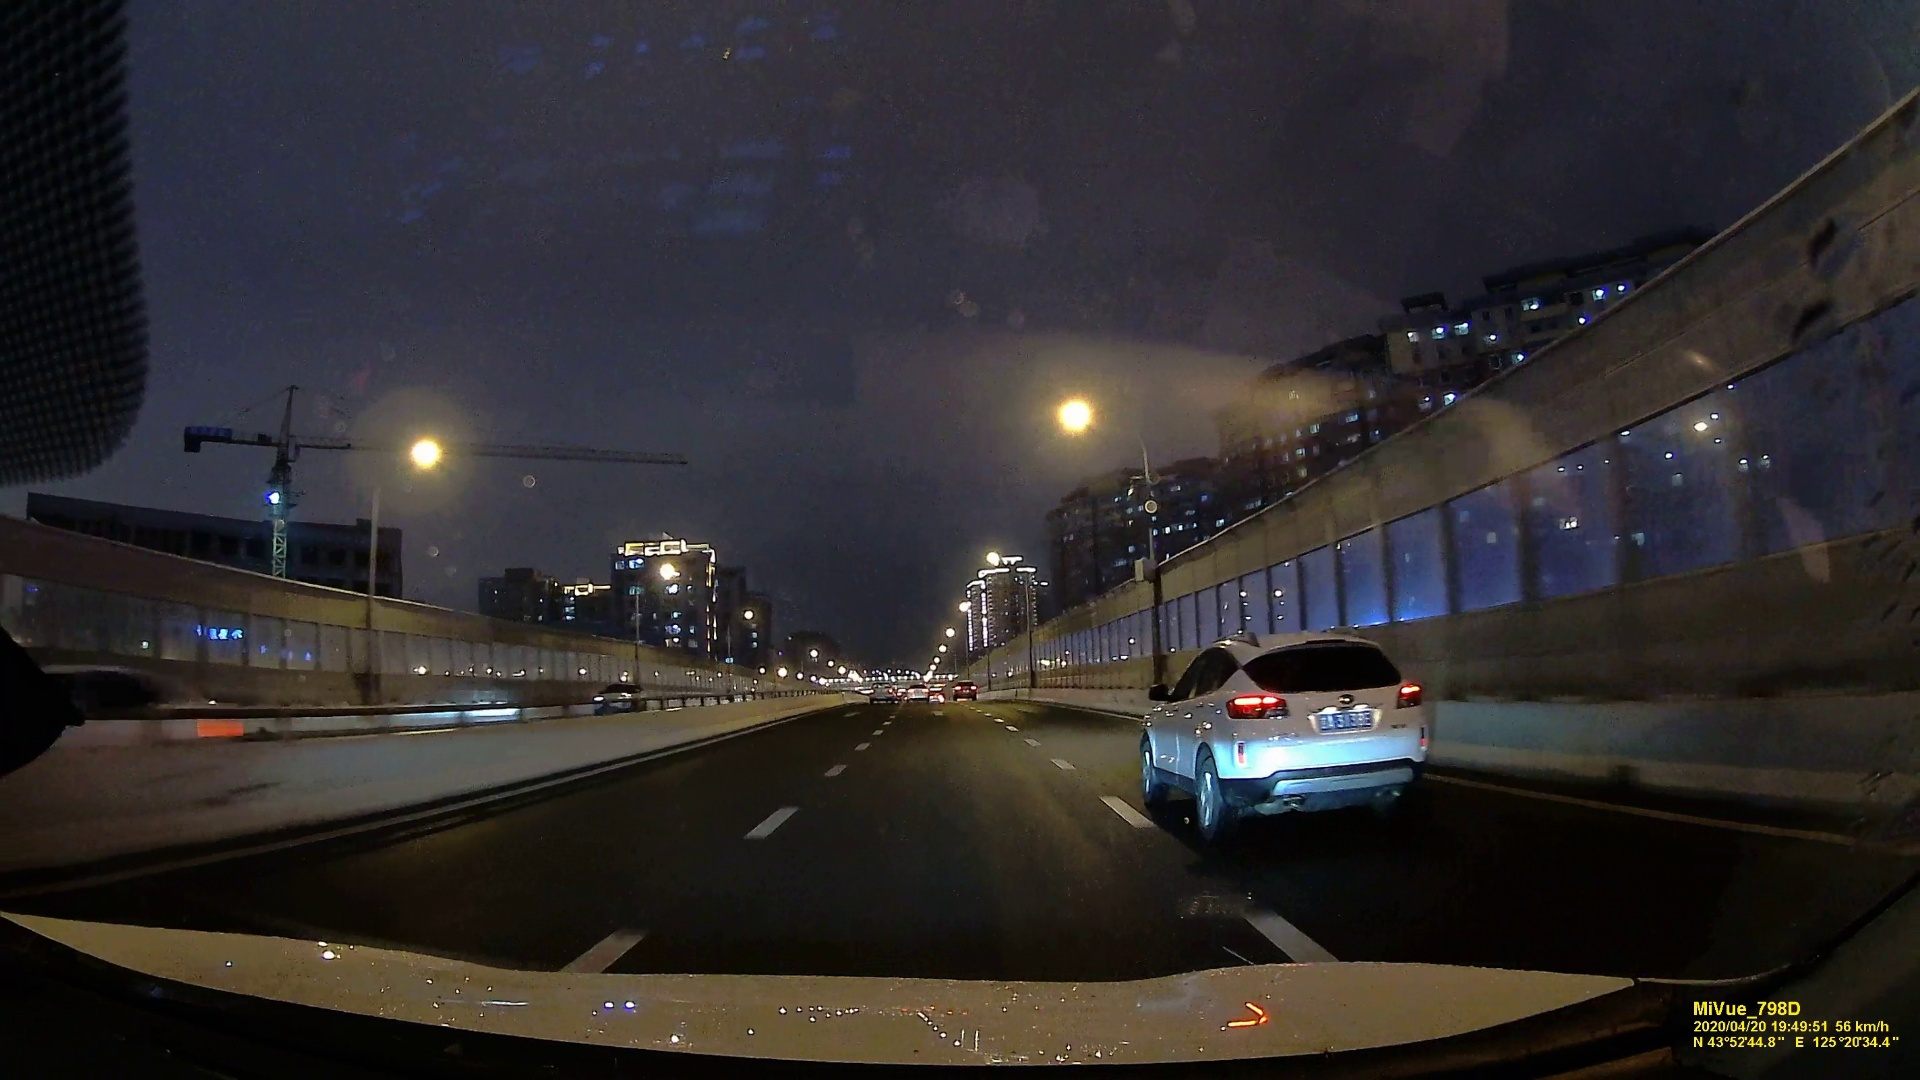vehicle: (1134, 629, 1425, 841), (593, 680, 647, 711), (868, 682, 895, 703), (952, 680, 978, 702), (905, 683, 928, 702)
